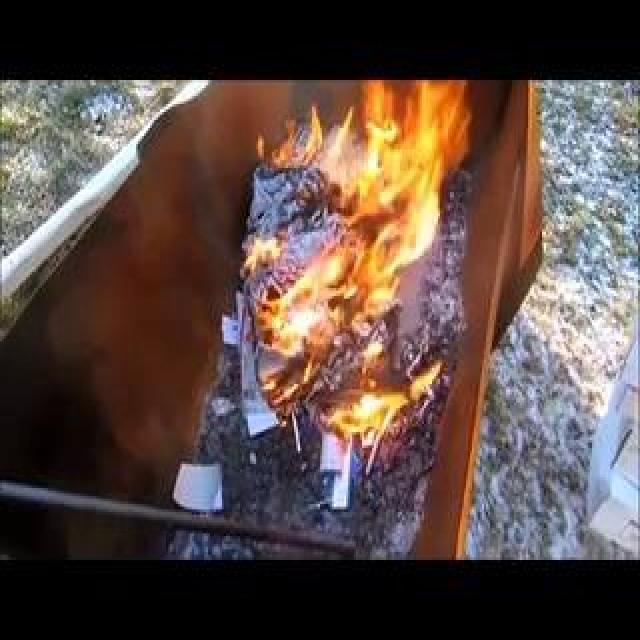Fire: (214, 262, 331, 366)
